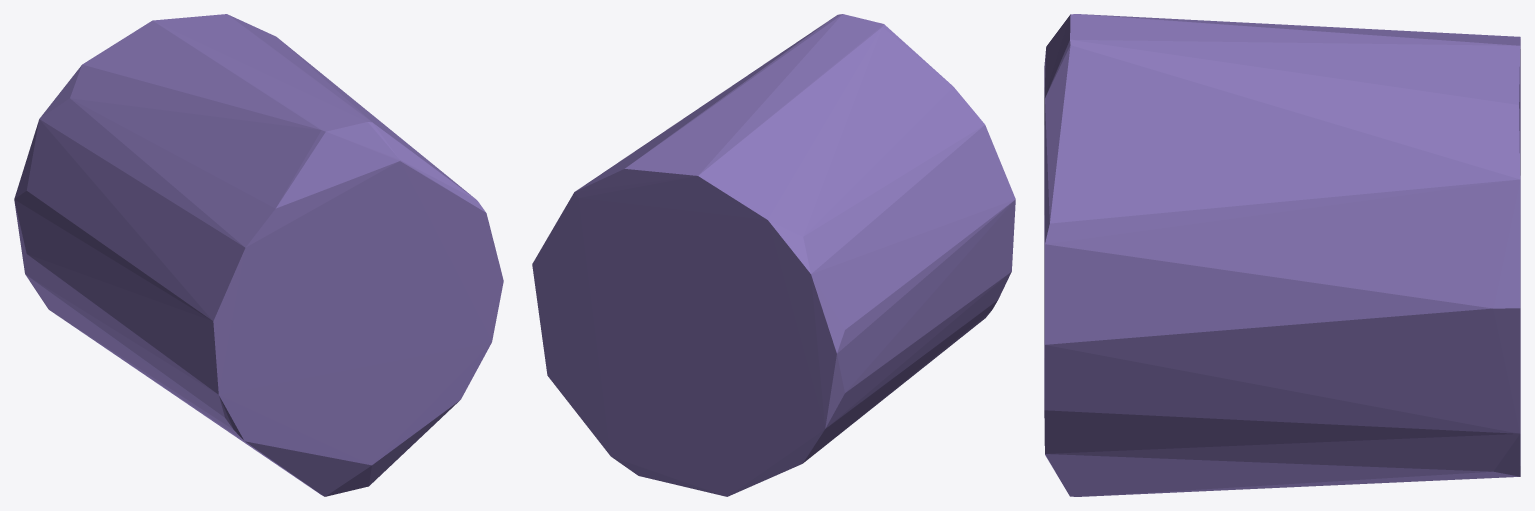
File: fireProtection_spillKit_bucket_a01.glb
3 views of the same model, side by side, from view 1: azimuth 30°, elevation 25°; view 2: azimuth 150°, elevation 25°; view 3: azimuth 270°, elevation 25° (orthographic). The views are drawn at different scales.
Parts seen in each view (by area): view 1: geometry_0; view 2: geometry_0; view 3: geometry_0.
Boxes of the visible parts, x1,y1,x2,y2 form: geometry_0: (14, 14, 503, 496); geometry_0: (532, 14, 1015, 496); geometry_0: (1044, 14, 1520, 496).
Bounding box in the file's own units: 0.419 × 0.4793 × 0.453.
